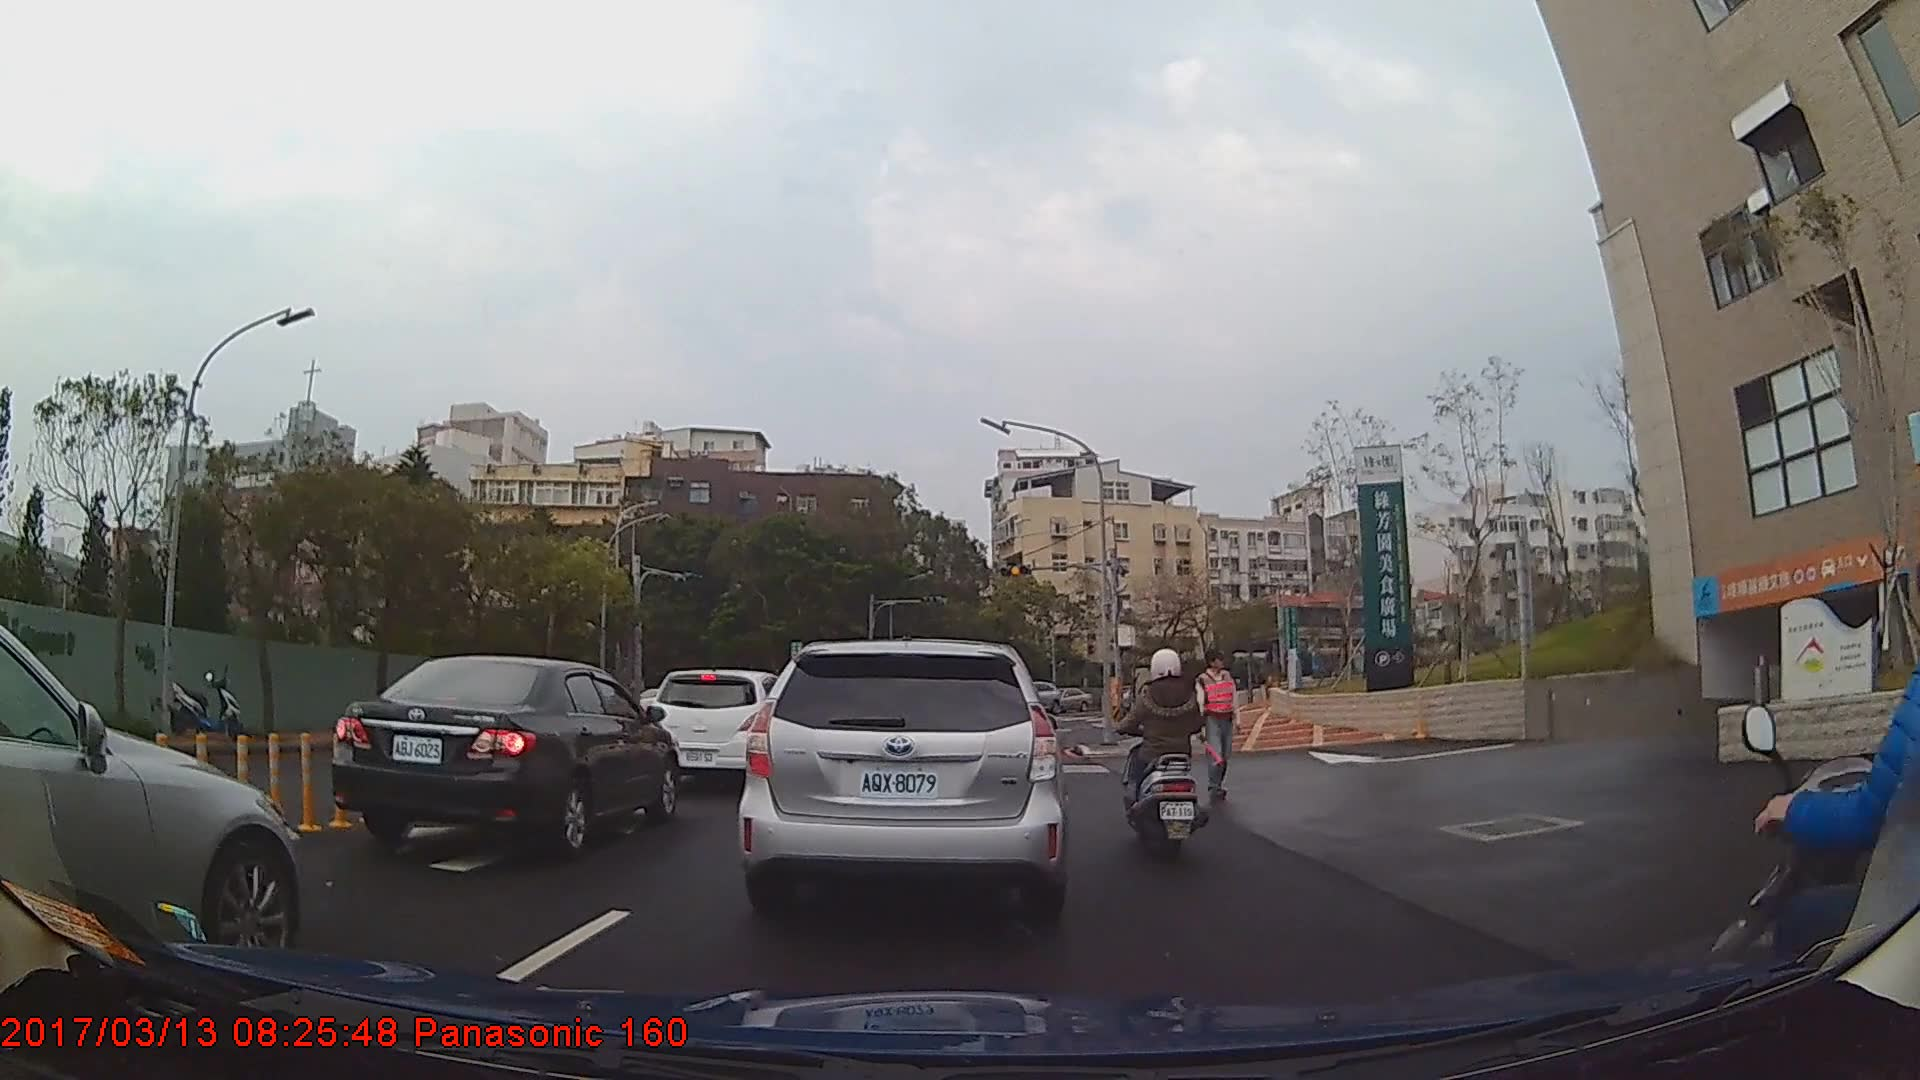pedestrian: (1192, 648, 1244, 800)
rider: (1120, 647, 1207, 862)
vehicle: (0, 622, 300, 966), (735, 636, 1066, 926), (329, 654, 680, 854), (648, 668, 790, 790), (1052, 682, 1092, 711)
